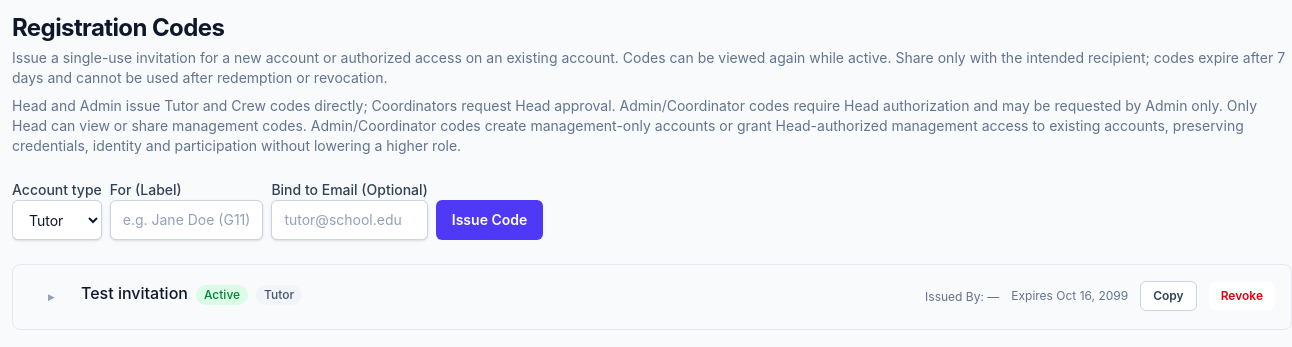
Scenario: shows the correct issuance action for ADMIN issuing ADMIN
The width and height of the screenshot is (1292, 347).
Select "Admin" in the dropdown at (57, 220), box [12,200,102,240]
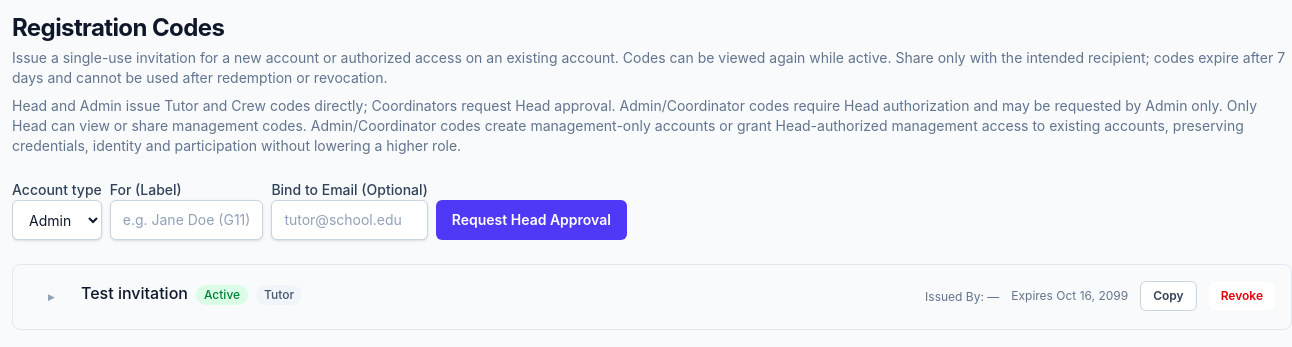
Check: the button "Request Head Approval" is shown, box [436,200,627,240]
Check: the button "Issue Code" is gone
